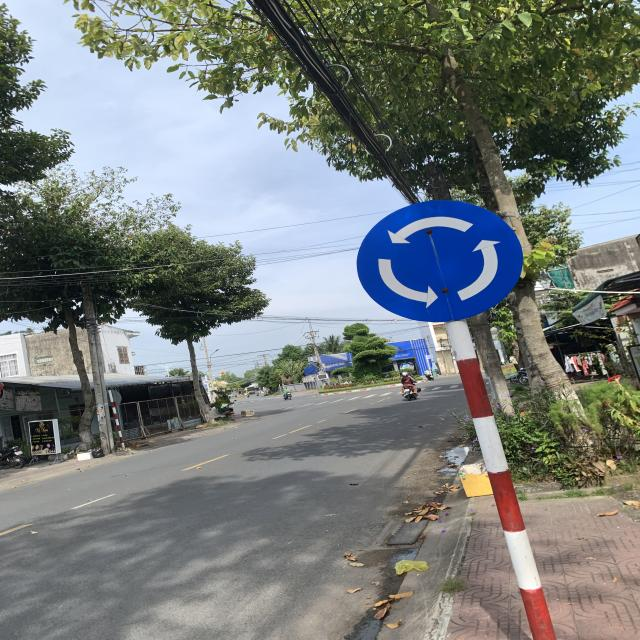Xe_Bus: (353, 198, 526, 324)
